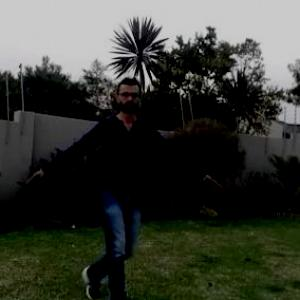land: (50, 93, 180, 253)
